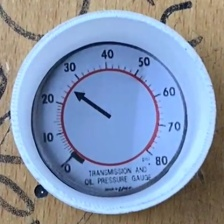gauge: (32, 41, 187, 196)
